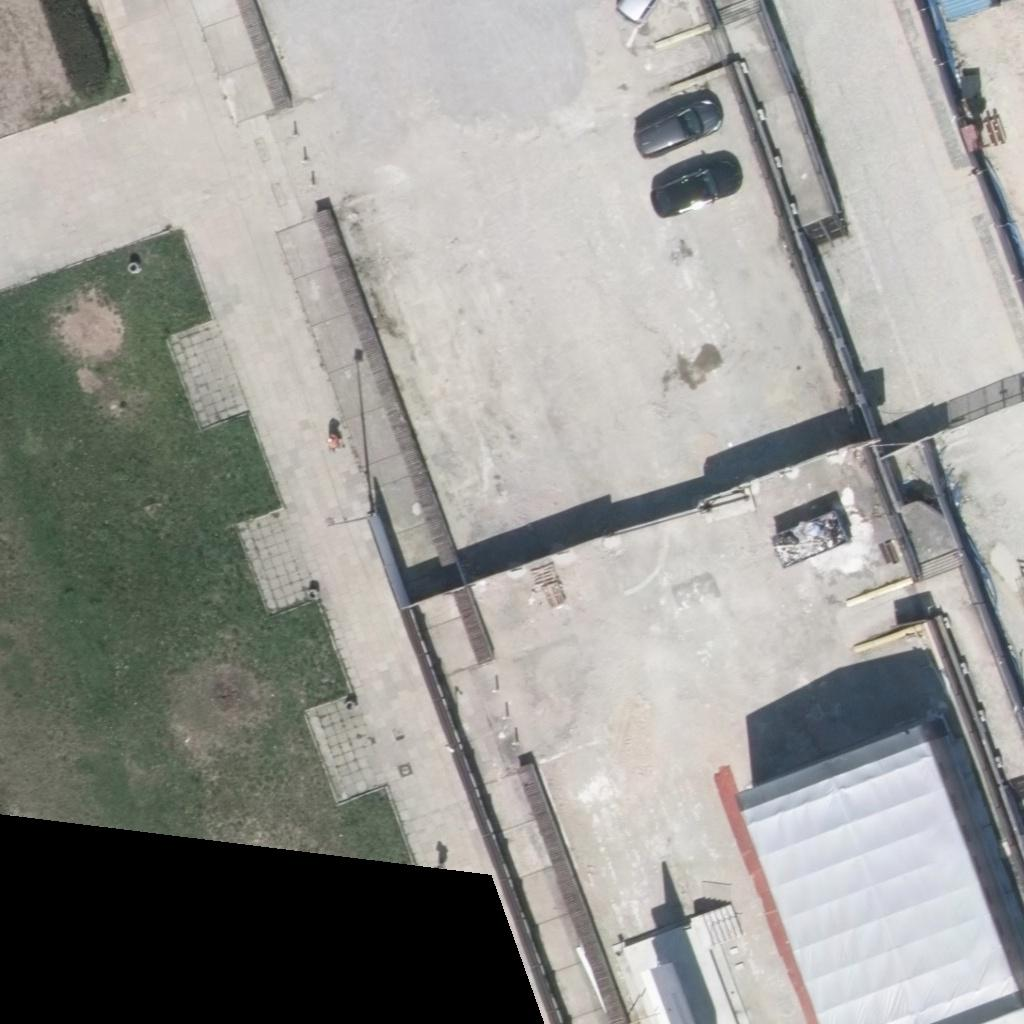samochod_osobowy: (651, 151, 742, 218), (635, 89, 723, 157)
